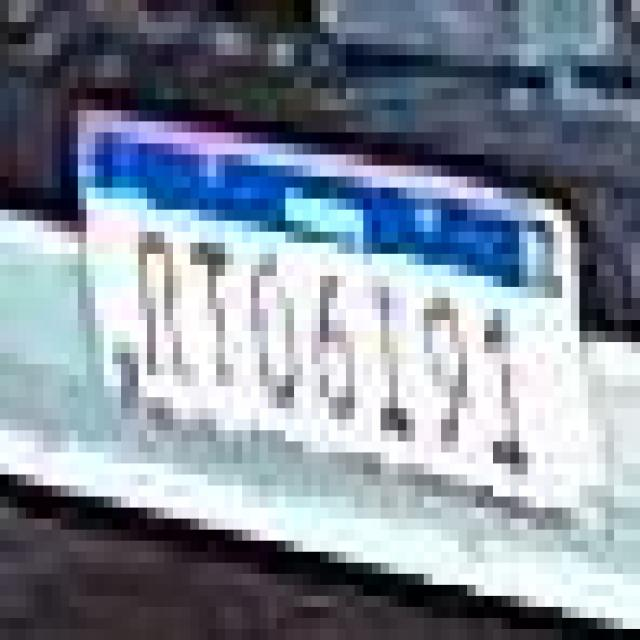4: (475, 298, 535, 482)
5: (305, 258, 364, 432)
9: (420, 287, 471, 459)
L: (365, 274, 419, 448)
R: (136, 219, 188, 378)
T: (184, 231, 248, 396)
